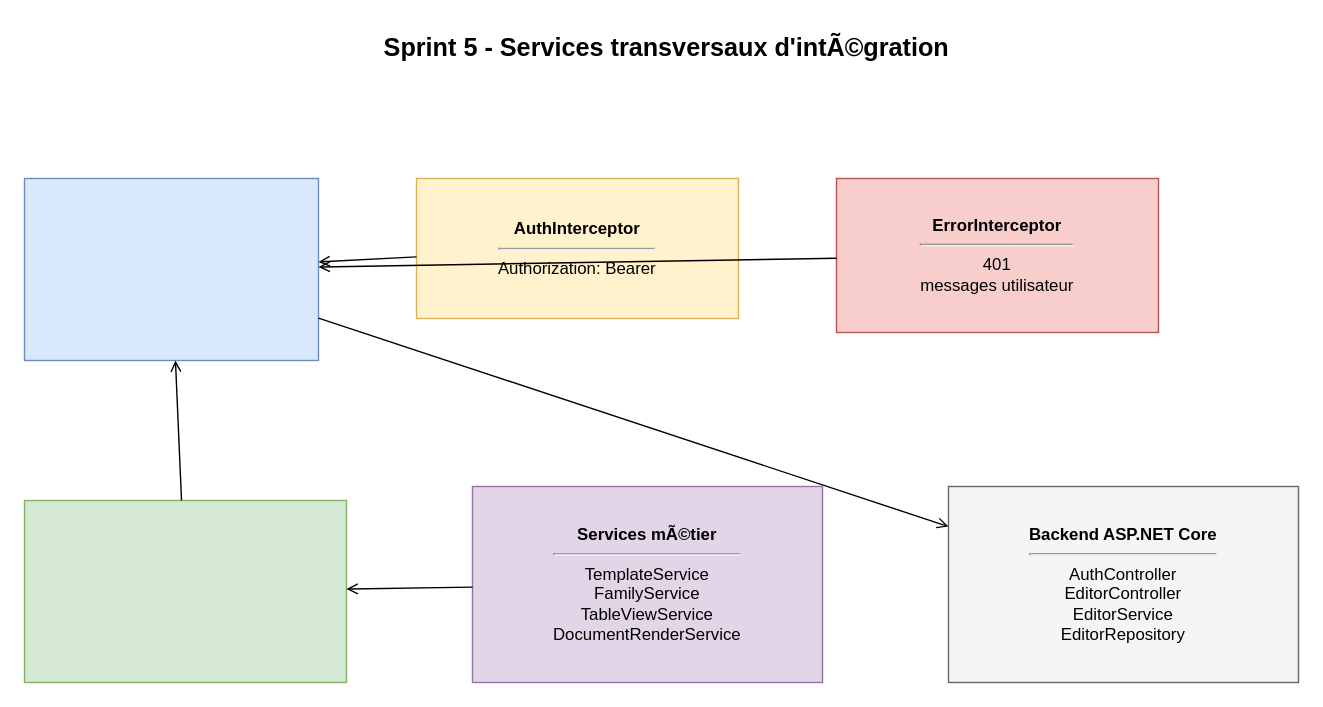
The diagram is 1323 pixels wide and 707 high, and some of its shapes have lost their labels. Each missing label, with the centre of its shape:
"ApiService get() post() put() delete()" belongs at pixel 170 268.
"EditorStateService loadState() ensureResources() replaceState()" belongs at pixel 184 590.
